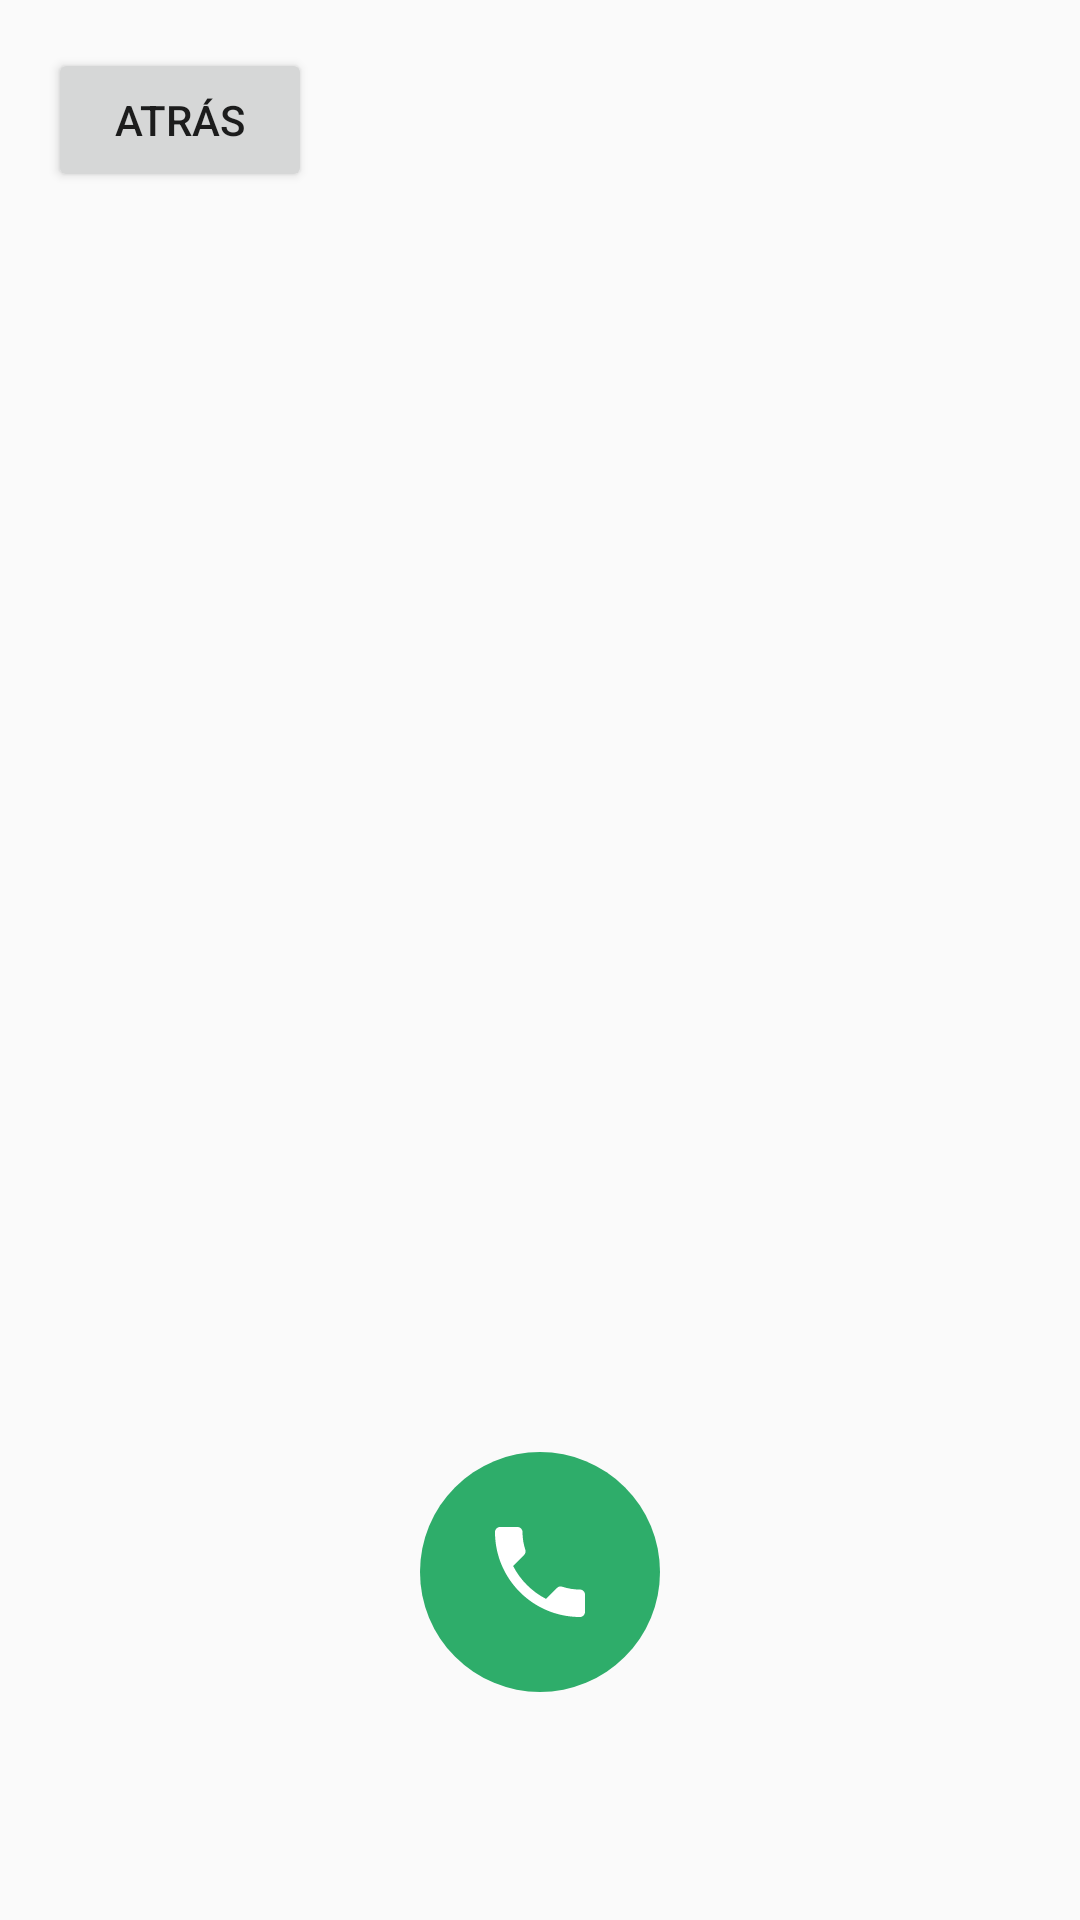

Locate icon controls on the screen. Image size 1080*1920, boxes as (x1, y1, x2, y2).
Llamar: (420, 1452, 660, 1692)
